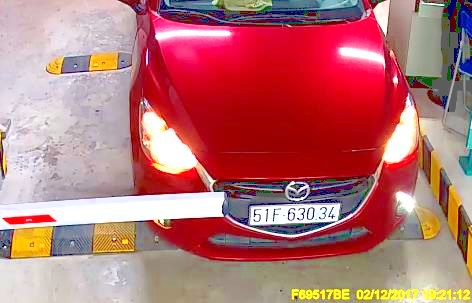plate: (249, 200, 340, 224)
